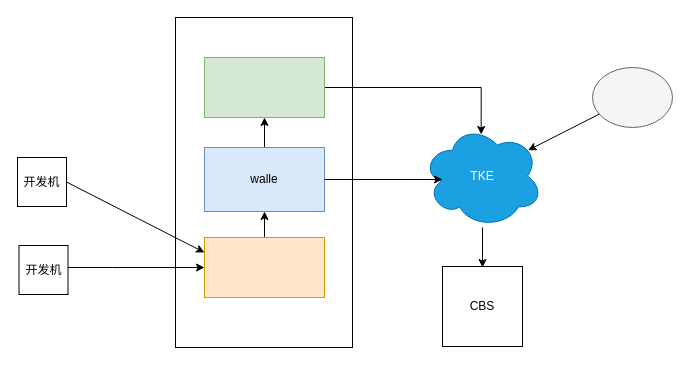
This 690x365 diagram has some shape labels left out. The centre of each missing label's shape, as x and y in pixels:
CLB: point (632, 97)
gitlab: point (264, 267)
harbor: point (264, 87)
